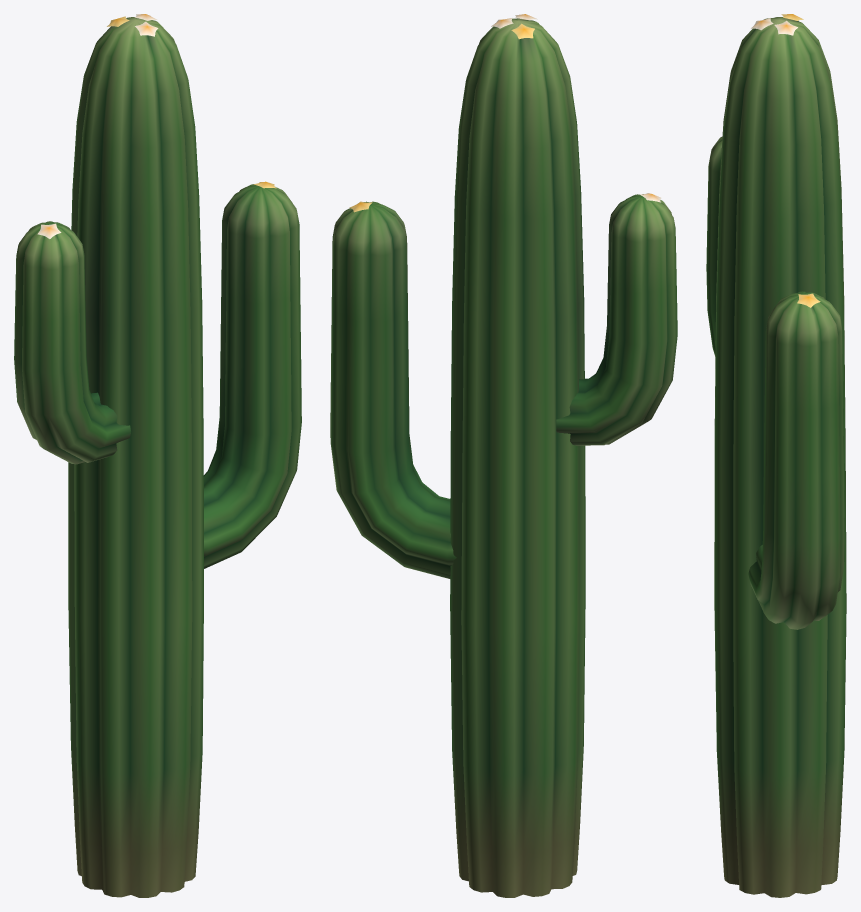
Rendered from cactus_a.glb.
3 renders of one model, left to right at view 1: azimuth 30°, elevation 25°; view 2: azimuth 150°, elevation 25°; view 3: azimuth 270°, elevation 25°, orthographic.
Parts seen in each view (by area): view 1: cactus_a; view 2: cactus_a; view 3: cactus_a.
Part boxes in pixels (x1,y1,x2,y2): cactus_a: (14, 14, 301, 897); cactus_a: (330, 14, 677, 897); cactus_a: (706, 14, 846, 897).
Size of the model in its own units: 1.79 by 4.76 by 0.7092.
